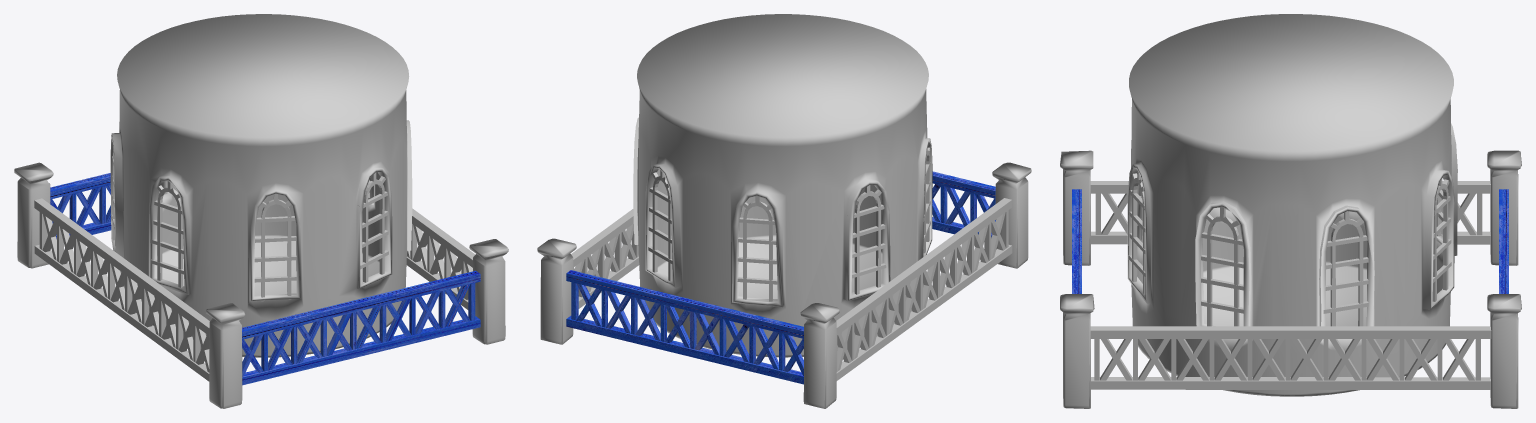
The model's file is level2-remaster.fbx.
The picture shows the model from 3 angles, left to right: view 1: azimuth 30°, elevation 25°; view 2: azimuth 150°, elevation 25°; view 3: azimuth 270°, elevation 25°; orthographic projection. The views are drawn at different scales.
Parts seen in each view (by area): view 1: Cylinder, Fence1, Fence1.001, Collar1.010, Collar1.007, Cube.014, Collar1.009, Fence1.002, Cube.005, Cube.004, Cube.007; view 2: Cylinder, Fence1.002, Fence1.001, Collar1.009, Collar1.008, Cube.014, Collar1.010, Fence1, Cube.064, Cube.012, Cube.011, Cube.004; view 3: Cylinder, Cube.014, Collar1.008, Collar1.007, Fence1.001, Collar1.009, Collar1.010, Cube.009, Cube.010, Cube.011, Cube.007, Fence1 (+1 smaller).
Boxes of the visible parts, <box> form: Cylinder: <box>110,14,412,357</box>; Fence1: <box>242,270,480,385</box>; Fence1.001: <box>34,198,209,381</box>; Collar1.010: <box>206,303,245,408</box>; Collar1.007: <box>469,239,508,344</box>; Cube.014: <box>368,180,475,309</box>; Collar1.009: <box>14,162,53,268</box>; Fence1.002: <box>50,173,111,239</box>; Cube.005: <box>254,193,296,301</box>; Cube.004: <box>150,181,183,287</box>; Cube.007: <box>358,172,388,282</box>; Cylinder: <box>633,14,932,357</box>; Fence1.002: <box>566,270,803,384</box>; Fence1.001: <box>836,198,1012,380</box>; Collar1.009: <box>800,303,839,408</box>; Collar1.008: <box>537,238,576,344</box>; Cube.014: <box>571,208,639,308</box>; Collar1.010: <box>992,162,1031,268</box>; Fence1: <box>932,171,995,237</box>; Cube.064: <box>852,185,886,294</box>; Cube.012: <box>737,196,777,301</box>; Cube.011: <box>648,170,672,281</box>; Cube.004: <box>923,147,930,253</box>; Cylinder: <box>1127,14,1457,396</box>; Cube.014: <box>1090,326,1491,389</box>; Collar1.008: <box>1487,294,1521,408</box>; Collar1.007: <box>1060,294,1094,408</box>; Fence1.001: <box>1090,181,1490,244</box>; Collar1.009: <box>1487,150,1521,265</box>; Collar1.010: <box>1060,150,1093,265</box>; Cube.009: <box>1201,207,1243,326</box>; Cube.010: <box>1323,211,1368,326</box>; Cube.011: <box>1432,178,1451,301</box>; Cube.007: <box>1128,170,1145,294</box>; Fence1: <box>1072,189,1081,293</box>.
Size of the model in its own units: 156 by 115 by 193.
